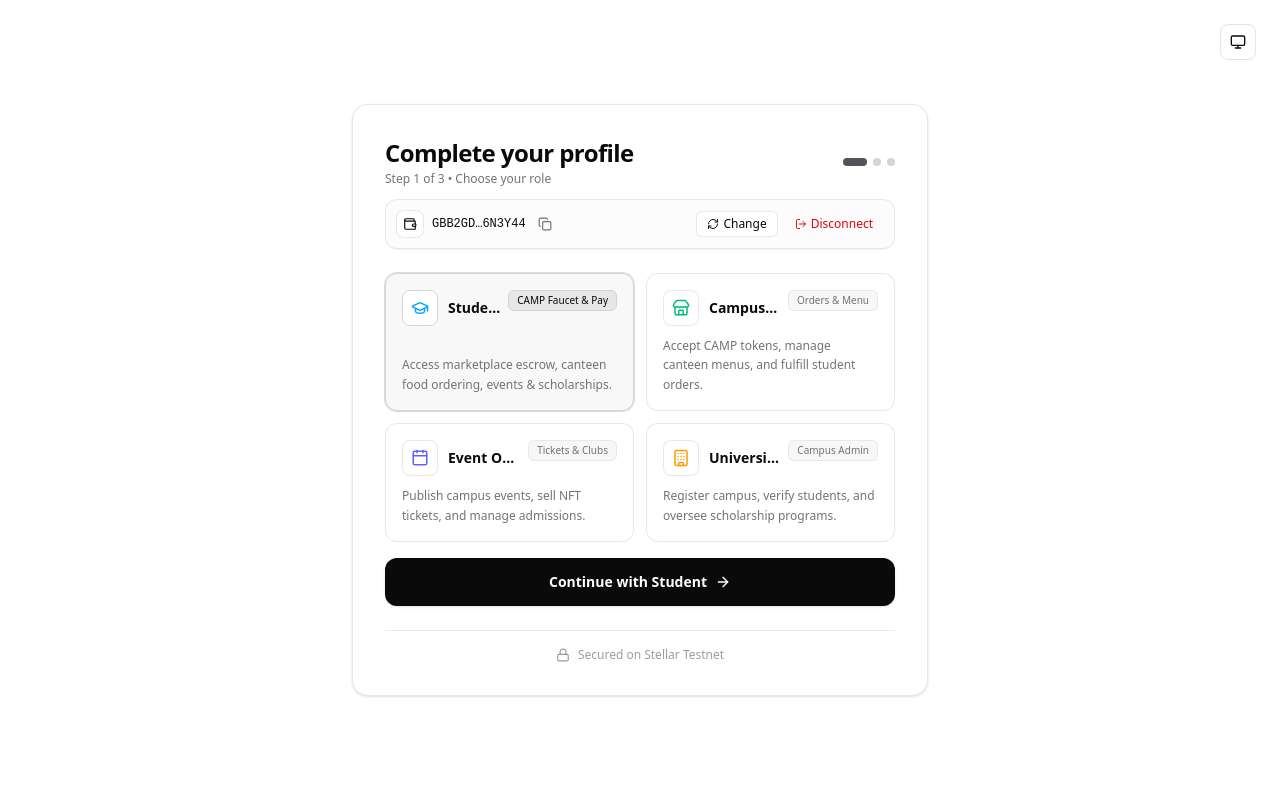
Test case: Onboarding & Login UX Experience › navigates between onboarding steps with validation
Note: Click Continue to step 2
Click the button "Continue with Student". click: coordinates (640, 582)
box: [385,558,895,606]
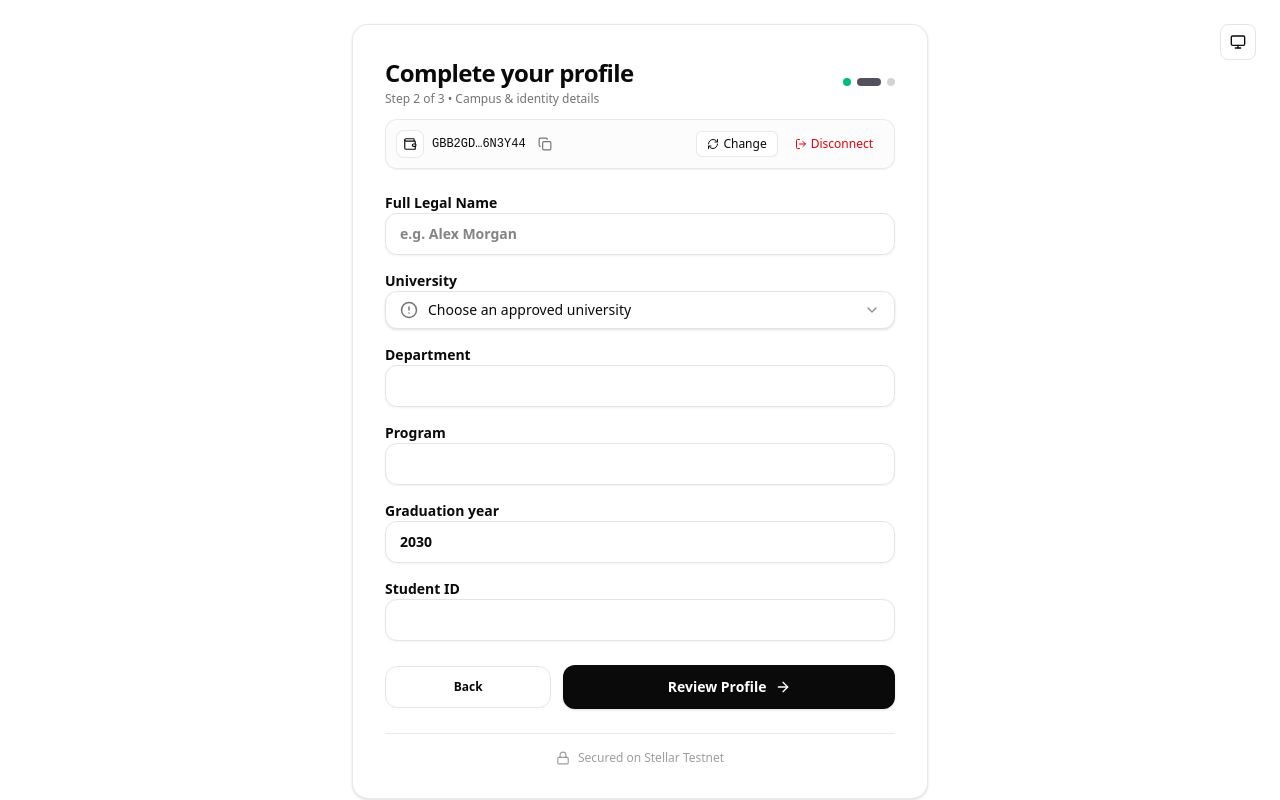
Expected: the heading "Complete your profile" is shown, [385,57,634,89]
Expected: the text "Step 2 of 3 • Campus & identity details" is shown, [385,91,634,107]
Click the button "Review Profile". click: coordinates (729, 687)
box: [563,665,895,709]
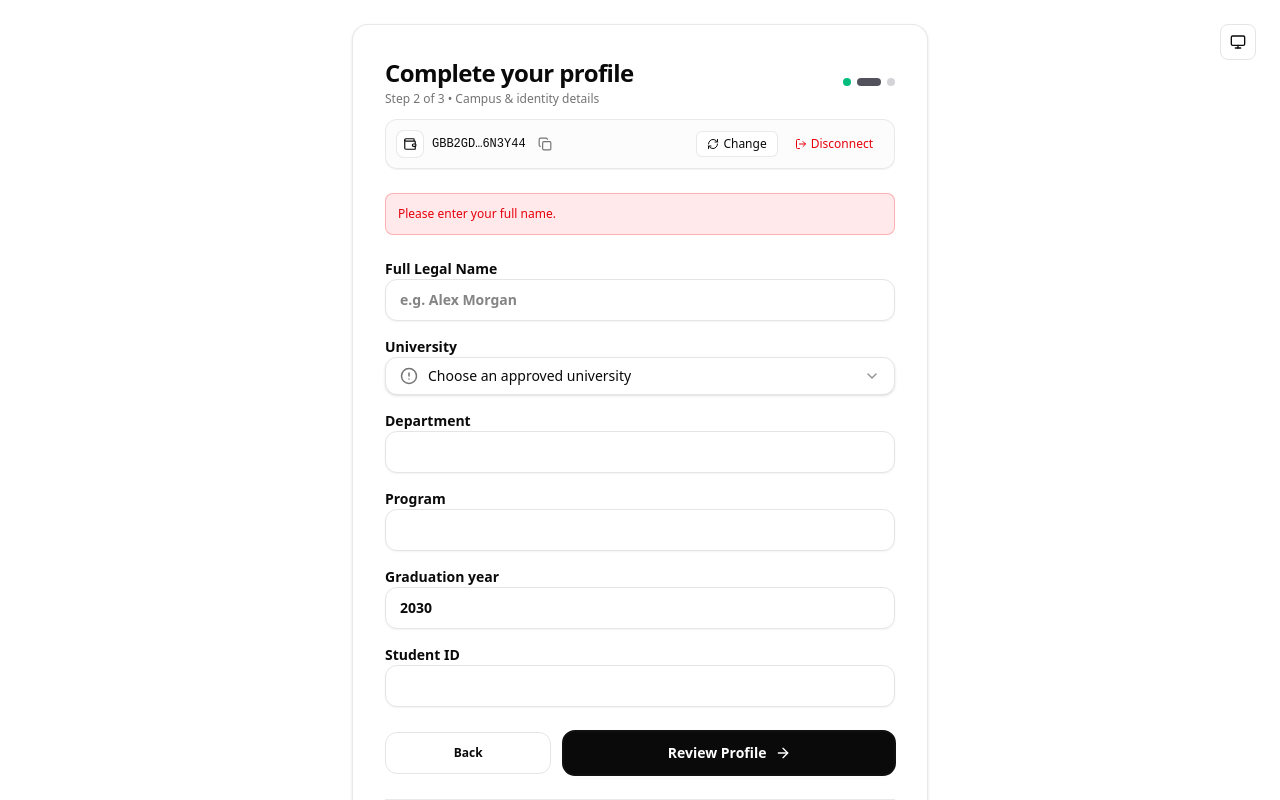
Expected: the text "Please enter your full name." is shown, [385,193,895,235]
